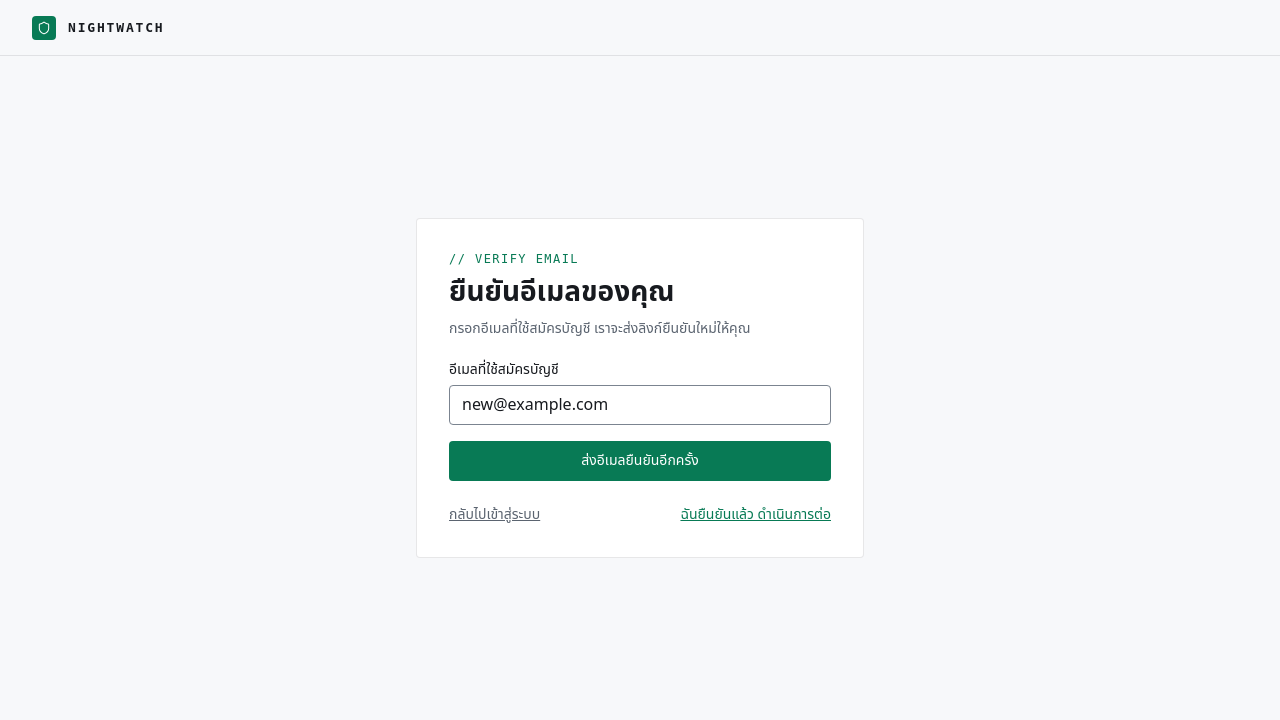
Test: VerifyEmailPage › anonymous signup resends to the invited email
Expected: the field with test id "verify-email-email" holds "new@example.com", [449,385,831,425]
Click the button with test id "verify-email-resend" at (640, 461), box [449,441,831,481]
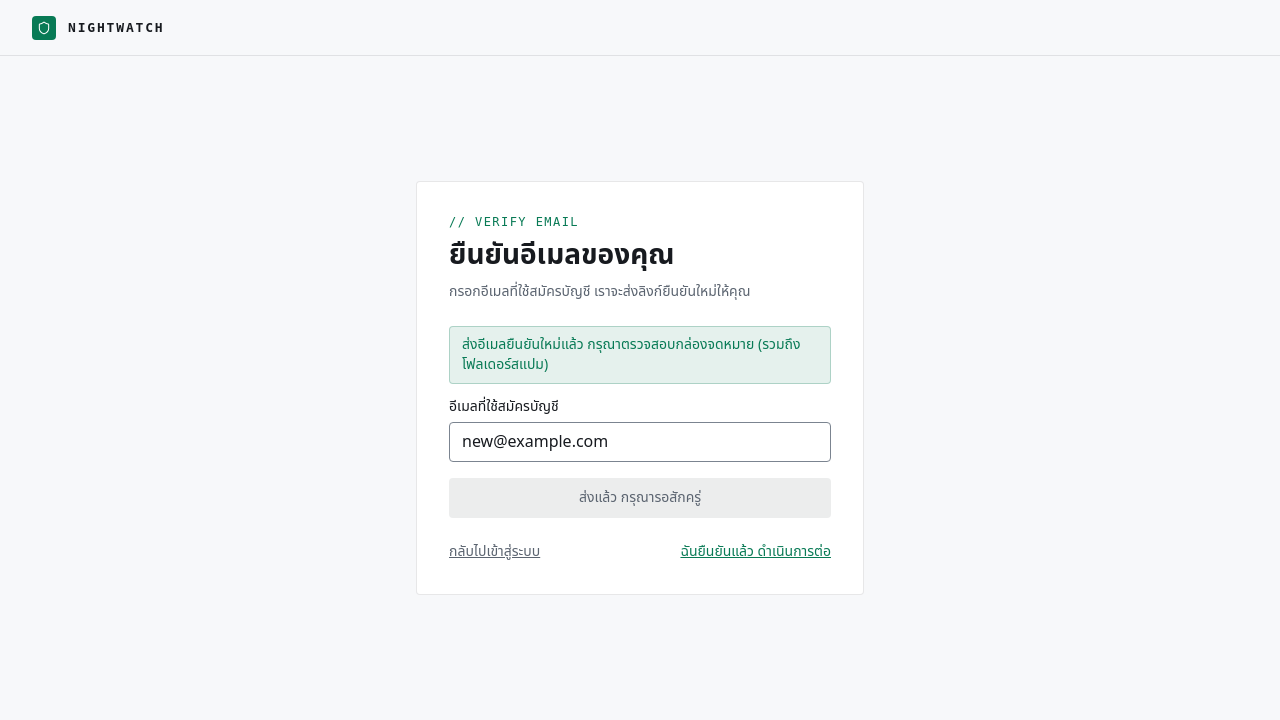
Expected: the message "ส่งอีเมลยืนยันใหม่แล้ว กรุณาตรวจสอบกล่องจดหมาย (รวมถึงโฟลเดอร์สแปม)" is shown, [449,326,831,384]
